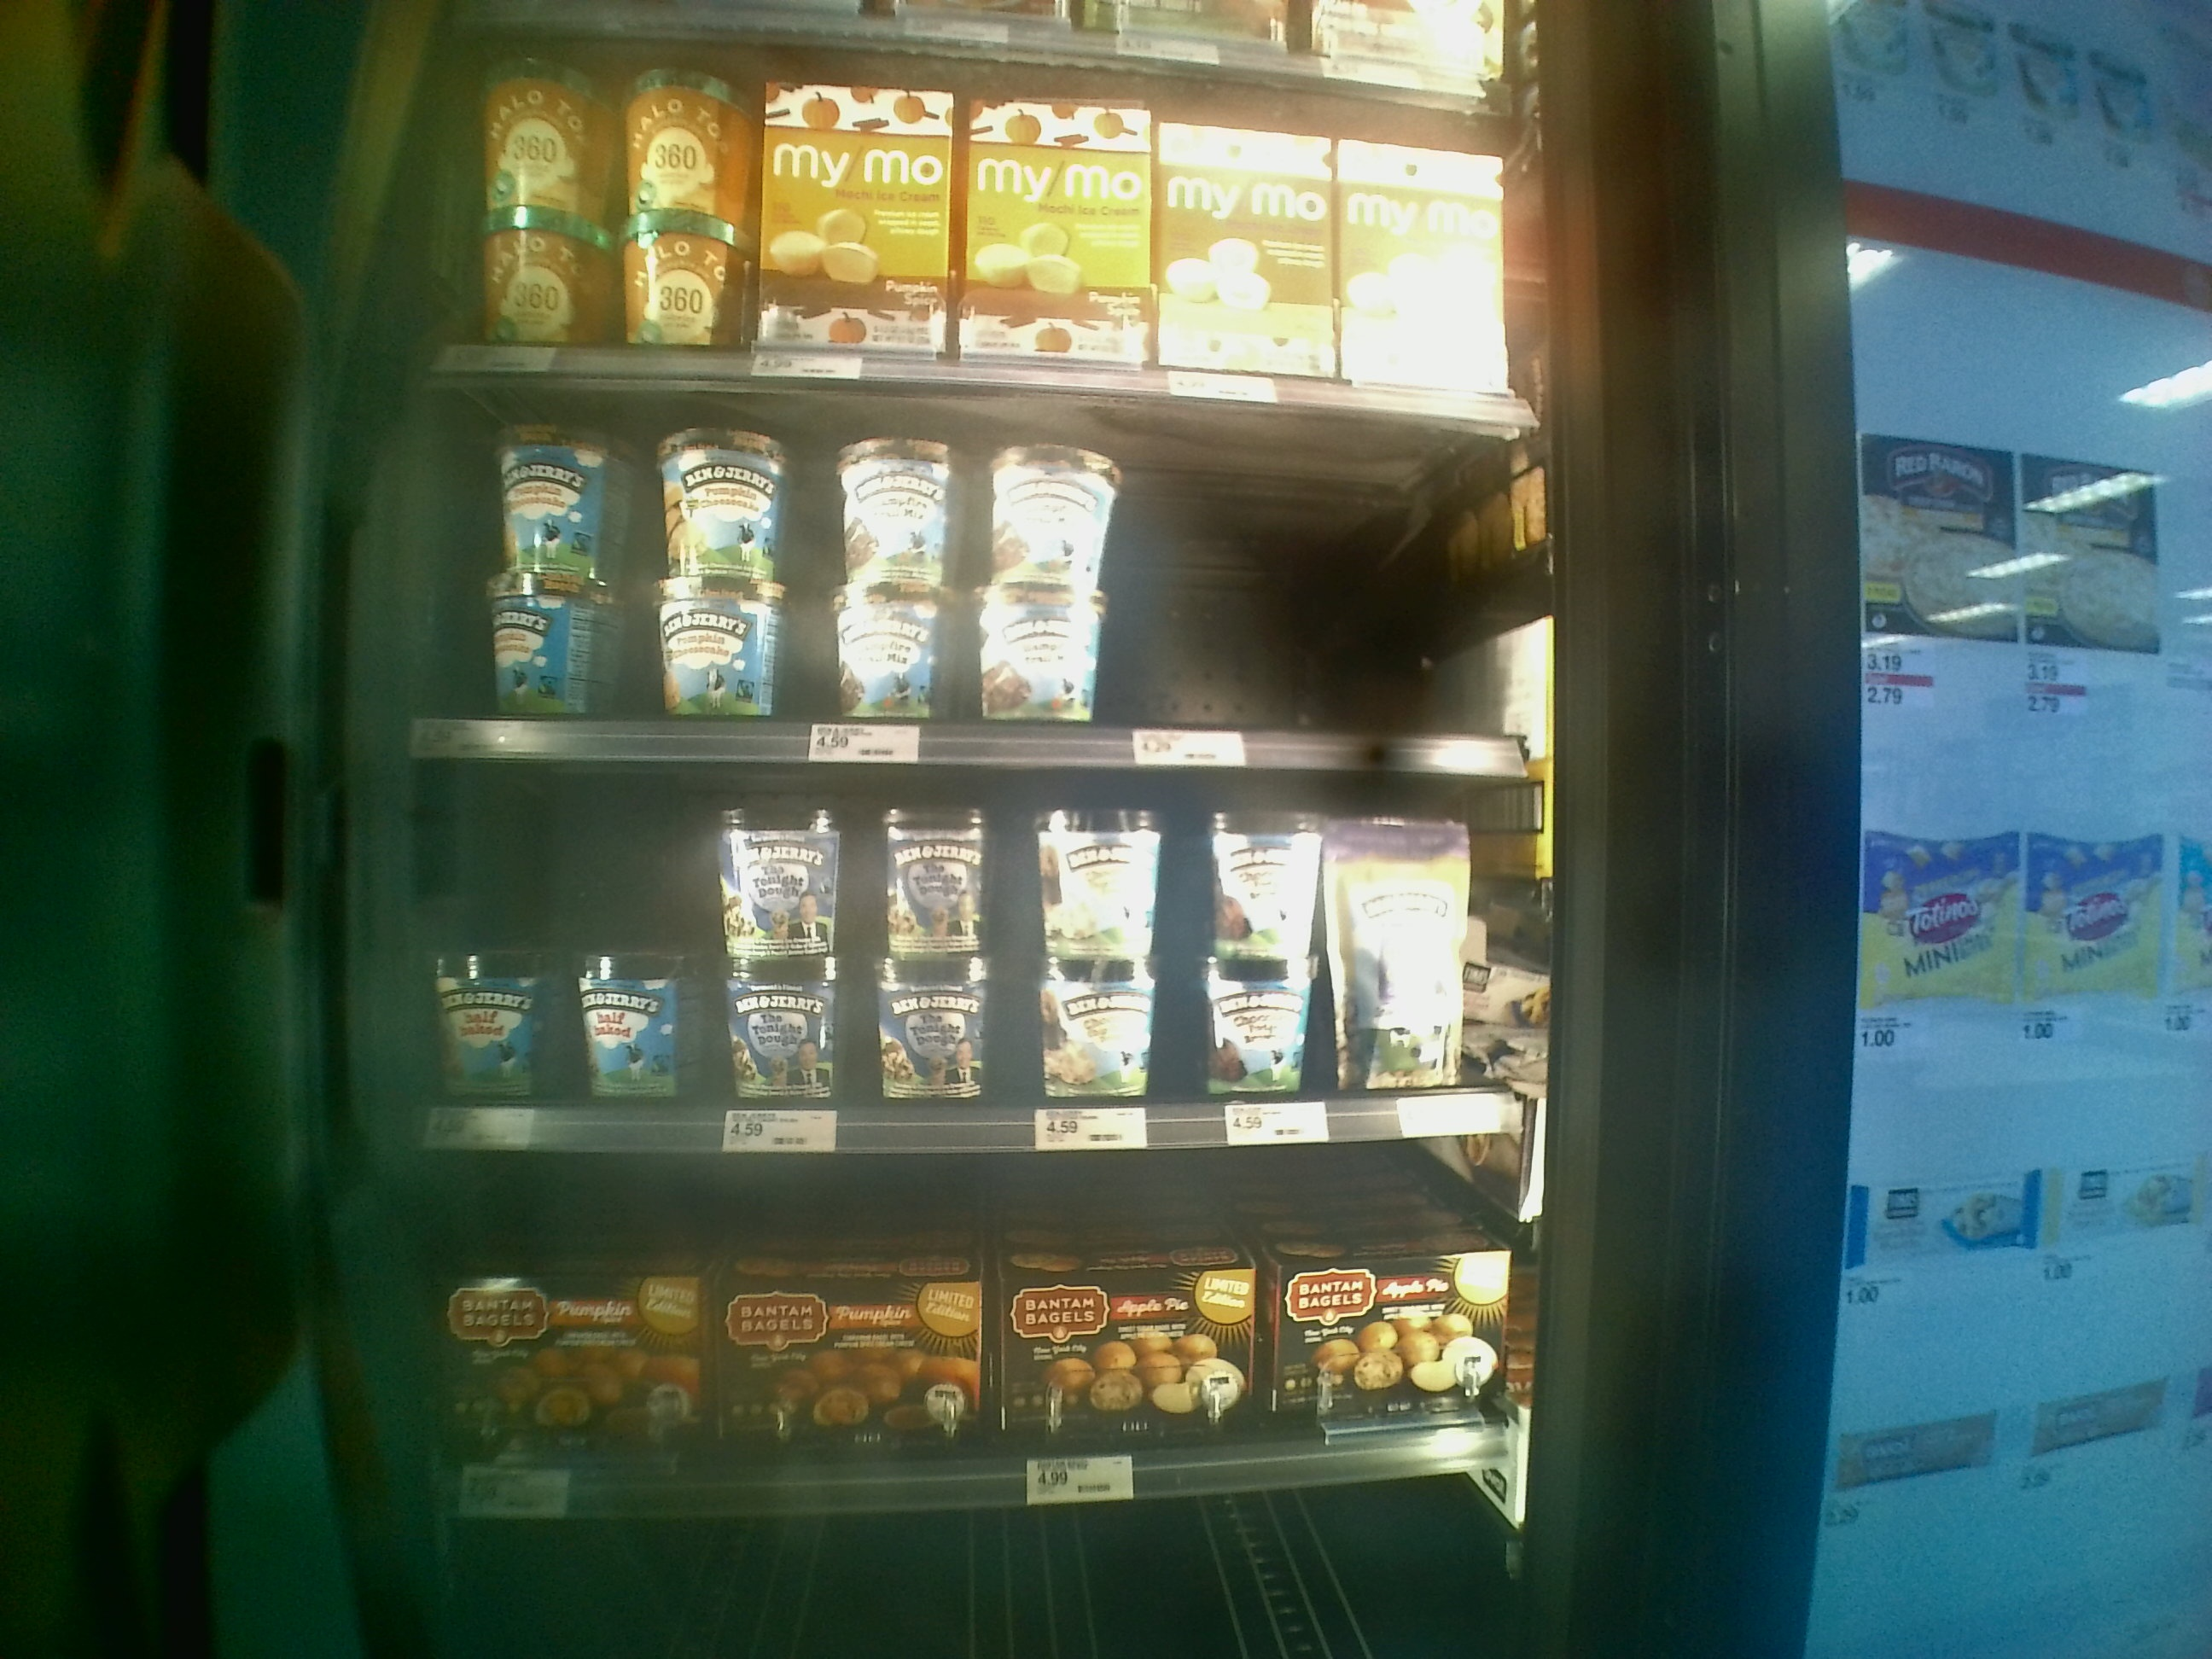shelf: (477, 359, 1529, 774), (425, 753, 1524, 1107), (408, 1121, 1493, 1466)
